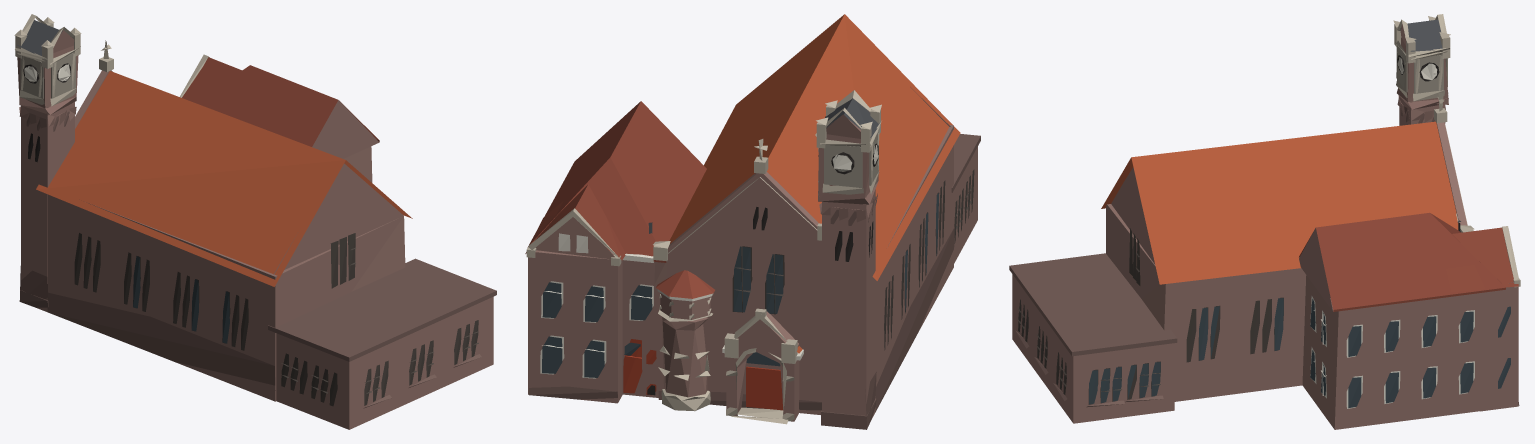
File: petrus-en-paulus-kerk.lod1.glb
The picture shows the model from 3 angles, left to right: view 1: azimuth 30°, elevation 25°; view 2: azimuth 150°, elevation 25°; view 3: azimuth 270°, elevation 25°; orthographic projection. The views are drawn at different scales.
Parts seen in each view (by area): view 1: petrus-en-paulus-kerk; view 2: petrus-en-paulus-kerk; view 3: petrus-en-paulus-kerk.
Part boxes in pixels (bbox=[...]): petrus-en-paulus-kerk: bbox=[14, 14, 496, 429]; petrus-en-paulus-kerk: bbox=[525, 14, 980, 429]; petrus-en-paulus-kerk: bbox=[1009, 14, 1520, 429].
Bounding box in the file's own units: 24.67 × 21.13 × 35.29.
